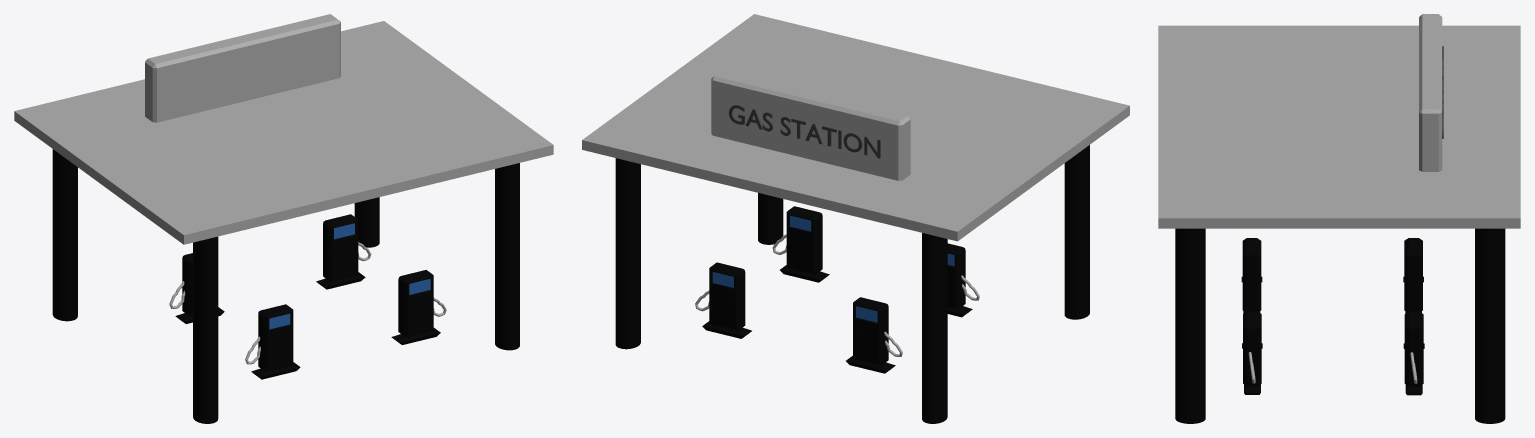
Rendered from GAS STATION_COLOR.007.glb.
3 renders of one model, left to right at view 1: azimuth 30°, elevation 25°; view 2: azimuth 150°, elevation 25°; view 3: azimuth 270°, elevation 25°, orthographic. The views are drawn at different scales.
Parts seen in each view (by area): view 1: GAS STATION_COLOR.007_0; view 2: GAS STATION_COLOR.007_0; view 3: GAS STATION_COLOR.007_0.
Boxes of the visible parts, box(x1,y1,x2,y2) form: GAS STATION_COLOR.007_0: box(14, 14, 553, 423); GAS STATION_COLOR.007_0: box(582, 14, 1129, 423); GAS STATION_COLOR.007_0: box(1158, 14, 1520, 423).
Size of the model in its own units: 5.36 by 3.61 by 4.26.
Materials: 1 (1 with a texture image).
